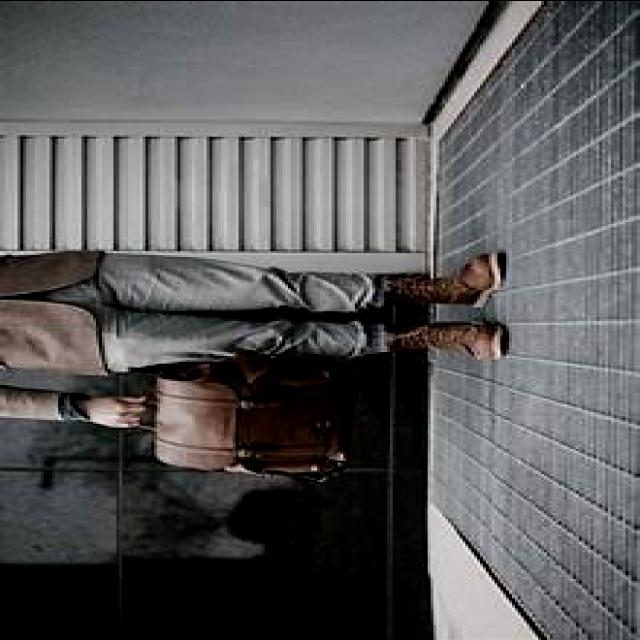backpack: (132, 352, 356, 486)
